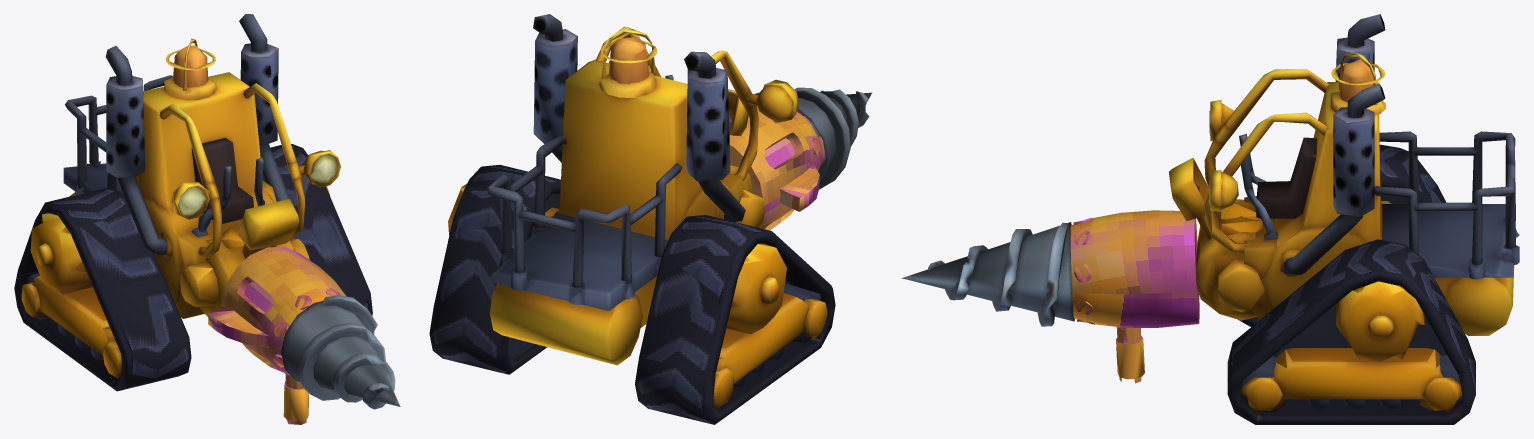
The model's file is drillMachine.fbx.
3 views of the same model, side by side, from view 1: azimuth 30°, elevation 25°; view 2: azimuth 150°, elevation 25°; view 3: azimuth 270°, elevation 25° (orthographic). The views are drawn at different scales.
Parts seen in each view (by area): view 1: vanila_tractor_2, DrillMachine; view 2: vanila_tractor_2, DrillMachine; view 3: vanila_tractor_2, DrillMachine.
Part boxes in pixels (x1,y1,x2,y2): vanila_tractor_2: [14, 14, 372, 391]; DrillMachine: [208, 246, 400, 424]; vanila_tractor_2: [429, 14, 835, 424]; DrillMachine: [729, 87, 871, 230]; vanila_tractor_2: [1169, 14, 1519, 424]; DrillMachine: [902, 210, 1199, 383].
Bounding box in the file's own units: 125 × 131 × 223.
Materials: 4 (4 with a texture image).
